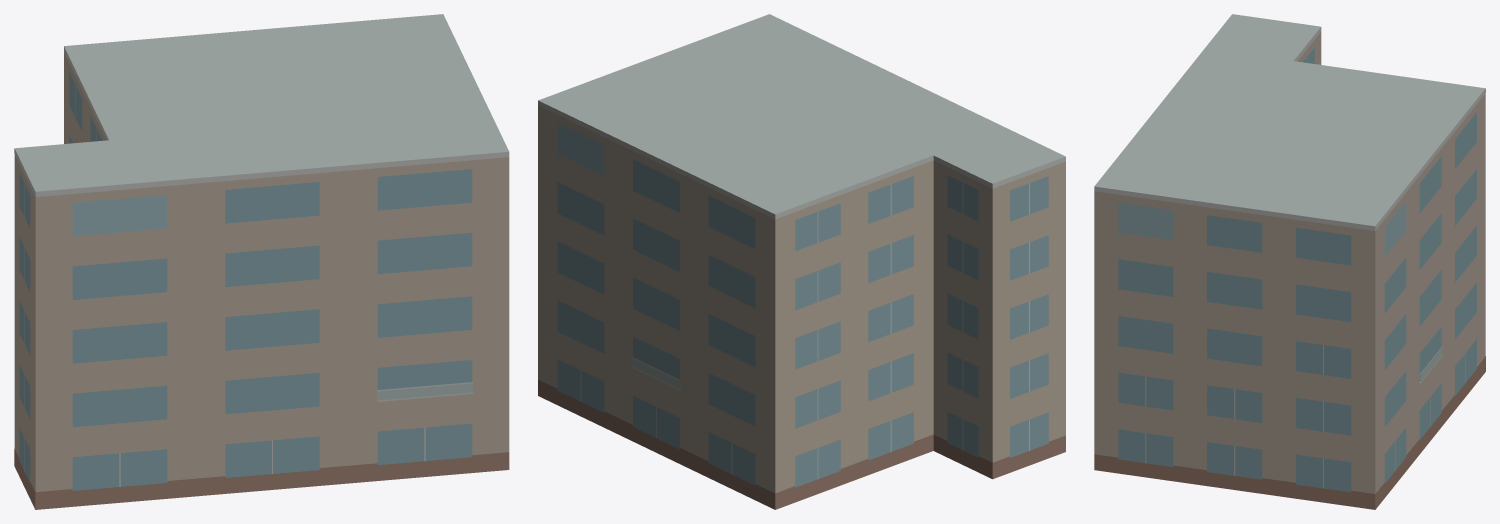
File: survey-upis-32795740.glb
3 renders of one model, left to right at view 1: azimuth 30°, elevation 25°; view 2: azimuth 150°, elevation 25°; view 3: azimuth 270°, elevation 25°, orthographic. The views are drawn at different scales.
Visible parts, largest first — view 1: survey-upis-32795740.tmp; view 2: survey-upis-32795740.tmp; view 3: survey-upis-32795740.tmp.
Boxes of the visible parts, x1,y1,x2,y2 form: survey-upis-32795740.tmp: [14, 14, 509, 509]; survey-upis-32795740.tmp: [538, 14, 1065, 509]; survey-upis-32795740.tmp: [1094, 14, 1485, 509].
Bounding box in the file's own units: 23.37 × 14.55 × 18.22.
